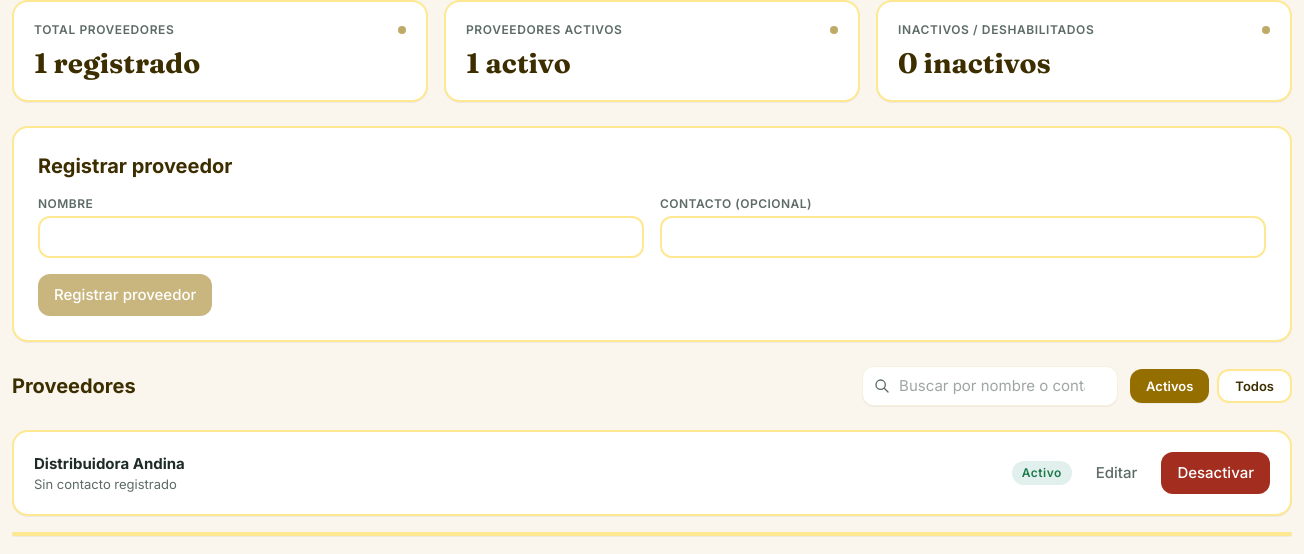
Test: Proveedores › desactiva un proveedor y refleja el cambio real del backend (nunca lo asume localmente)
The image size is (1304, 554).
Expected: the text "Activo" is shown, [1012,461,1072,485]
What coordinates should you click on to do the following:
click the button "Desactivar"
I would click on:
 (1216, 473)
Its box is [1161,452,1270,494].
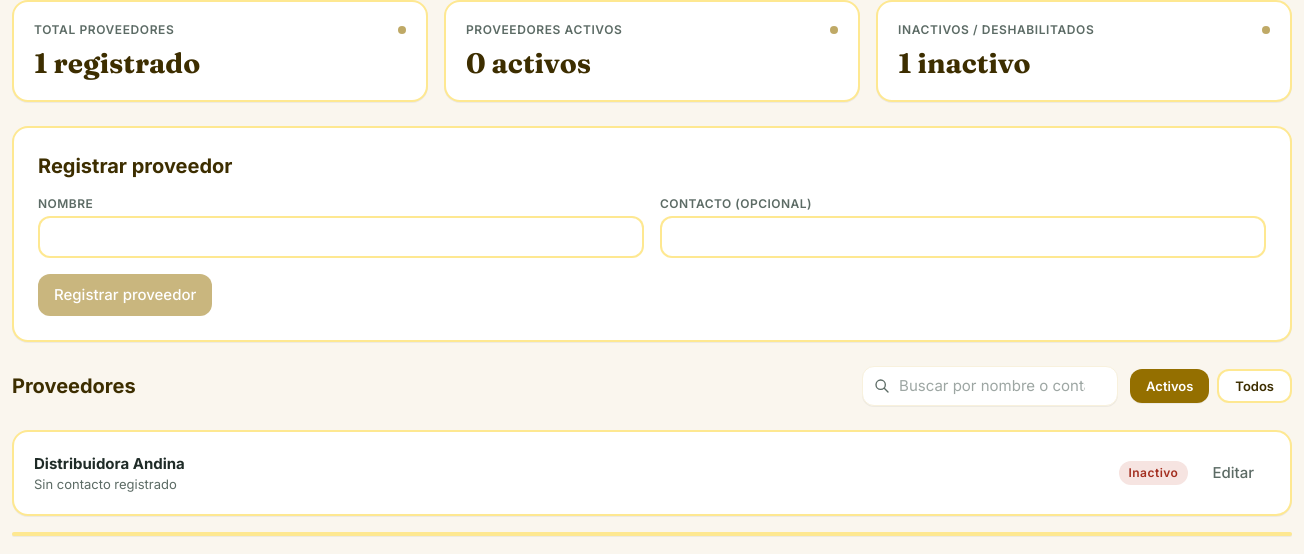
Now the text "Inactivo" is shown, box [1118,461,1188,485]
Now the button "Desactivar" is gone
